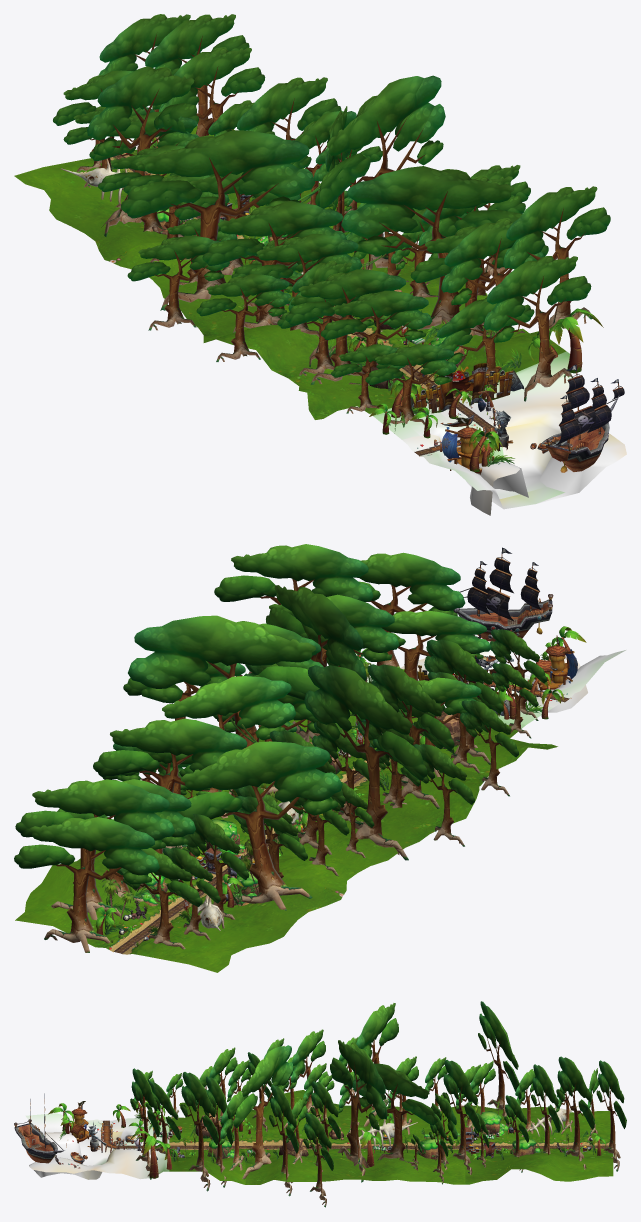
3 views of the same model, one above another, from view 1: azimuth 30°, elevation 25°; view 2: azimuth 150°, elevation 25°; view 3: azimuth 270°, elevation 25° (orthographic). The views are drawn at different scales.
Parts seen in each view (by area): view 1: hw_zhidao210_peijing_05, hw_zhidao210_peijing_03, hw_zhidao210_peijing_01, hw_wandaoyou_peijing_01, hw_wandaoyou_dimian_01, hw_zhidao210_dimian_03, hw_zhidao210_dimian_01, hw_zhidao210_dimian_02, hw_wandaoyou_peijing_02, hw_zhidao210_peijing_02; view 2: hw_zhidao210_peijing_03, hw_zhidao210_peijing_01, hw_zhidao210_peijing_05, hw_wandaoyou_peijing_01, hw_zhidao210_dimian_01, hw_zhidao210_dimian_02, hw_zhidao210_dimian_03, hw_wandaoyou_dimian_01, hw_zhidao210_peijing_02, hw_wandaoyou_peijing_02, hw_zhidao210_peijing_04, hw_zhidao210_daolu_01 (+1 smaller); view 3: hw_zhidao210_peijing_03, hw_zhidao210_peijing_05, hw_zhidao210_peijing_01, hw_zhidao210_dimian_01, hw_zhidao210_dimian_02, hw_zhidao210_dimian_03, hw_wandaoyou_peijing_01, hw_wandaoyou_dimian_01, hw_zhidao210_peijing_02, hw_wandaoyou_peijing_02, hw_zhidao210_peijing_04, hw_zhidao210_peijing_06 (+1 smaller).
Boxes of the visible parts, box(x1,y1,x2,y2) form: hw_zhidao210_peijing_05: box(196, 166, 610, 413); hw_zhidao210_peijing_03: box(121, 75, 530, 330); hw_zhidao210_peijing_01: box(53, 14, 275, 238); hw_wandaoyou_peijing_01: box(365, 256, 624, 472); hw_wandaoyou_dimian_01: box(370, 351, 626, 515); hw_zhidao210_dimian_03: box(205, 283, 566, 419); hw_zhidao210_dimian_01: box(14, 126, 320, 260); hw_zhidao210_dimian_02: box(109, 202, 439, 342); hw_wandaoyou_peijing_02: box(434, 384, 513, 474); hw_zhidao210_peijing_02: box(60, 158, 250, 234); hw_zhidao210_peijing_03: box(93, 615, 474, 876); hw_zhidao210_peijing_01: box(14, 741, 342, 952); hw_zhidao210_peijing_05: box(214, 544, 538, 808); hw_wandaoyou_peijing_01: box(353, 547, 586, 720); hw_zhidao210_dimian_01: box(15, 850, 341, 972); hw_zhidao210_dimian_02: box(162, 783, 465, 896); hw_zhidao210_dimian_03: box(259, 710, 557, 818); hw_wandaoyou_dimian_01: box(367, 634, 625, 728); hw_zhidao210_peijing_02: box(133, 848, 259, 946); hw_wandaoyou_peijing_02: box(458, 635, 577, 697); hw_zhidao210_peijing_04: box(205, 801, 346, 868); hw_zhidao210_daolu_01: box(114, 872, 228, 953); hw_zhidao210_peijing_03: box(303, 1003, 480, 1207); hw_zhidao210_peijing_05: box(166, 1029, 328, 1196); hw_zhidao210_peijing_01: box(455, 1001, 626, 1172); hw_zhidao210_dimian_01: box(465, 1105, 613, 1184); hw_zhidao210_dimian_02: box(317, 1103, 465, 1184); hw_zhidao210_dimian_03: box(169, 1090, 317, 1184); hw_wandaoyou_peijing_01: box(14, 1068, 180, 1179); hw_wandaoyou_dimian_01: box(25, 1113, 169, 1179); hw_zhidao210_peijing_02: box(465, 1105, 580, 1158); hw_wandaoyou_peijing_02: box(65, 1101, 169, 1152); hw_zhidao210_peijing_04: box(329, 1119, 460, 1159); hw_zhidao210_peijing_06: box(195, 1113, 308, 1158).
Bounding box in the file's own units: 86937 × 41661 × 23399.
Materials: 5 (4 with a texture image).
